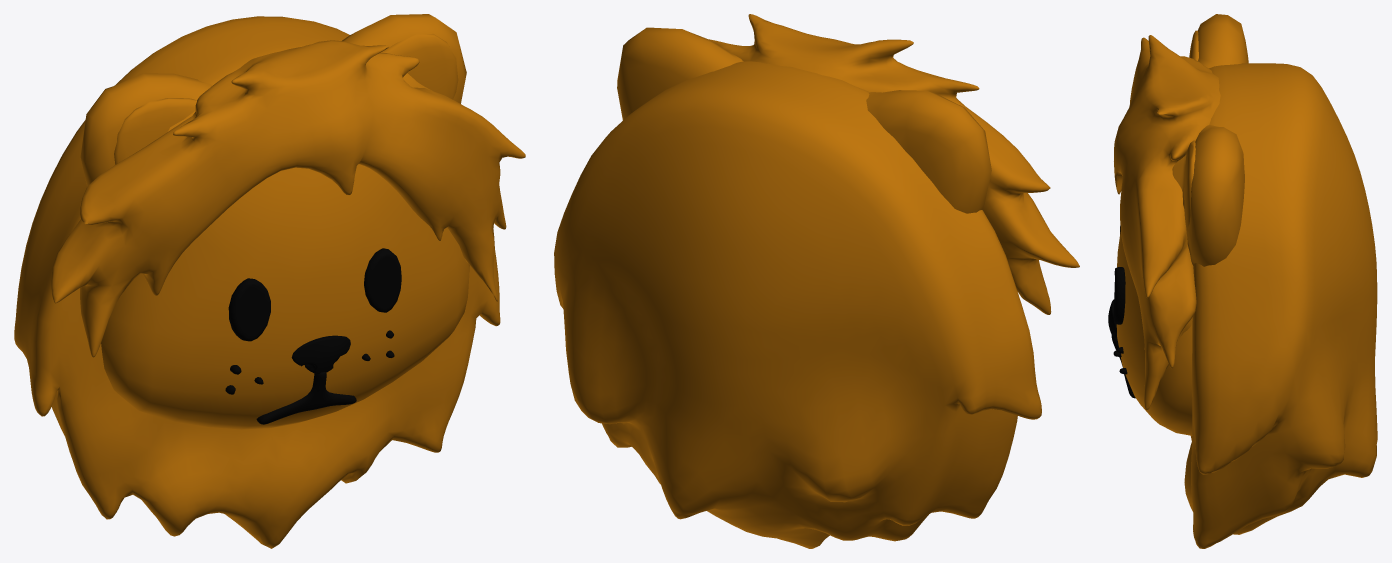
Rendered from lion FBX.FBX.
The picture shows the model from 3 angles, left to right: view 1: azimuth 30°, elevation 25°; view 2: azimuth 150°, elevation 25°; view 3: azimuth 270°, elevation 25°; orthographic projection. The views are drawn at different scales.
Parts seen in each view (by area): view 1: L6, L001, L003, L7, L2, L3, lion3; view 2: L003, L001, L6; view 3: L003, L001, L6, L7, L2.
Part boxes in pixels (box(x1,y1,x2,y2)): L6: box(80, 14, 469, 429); L001: box(51, 40, 525, 357); L003: box(14, 16, 500, 548); L7: box(114, 34, 458, 164); L2: box(228, 248, 401, 341); L3: box(225, 330, 394, 424); lion3: box(291, 335, 350, 374); L003: box(554, 61, 1041, 548); L001: box(709, 14, 1079, 314); L6: box(617, 27, 991, 213); L003: box(1184, 63, 1377, 548); L001: box(1114, 35, 1220, 410); L6: box(1116, 14, 1248, 435); L7: box(1184, 30, 1198, 236); L2: box(1113, 225, 1125, 324).
Bounding box in the file's own units: 21.78 × 22.29 × 11.74.
